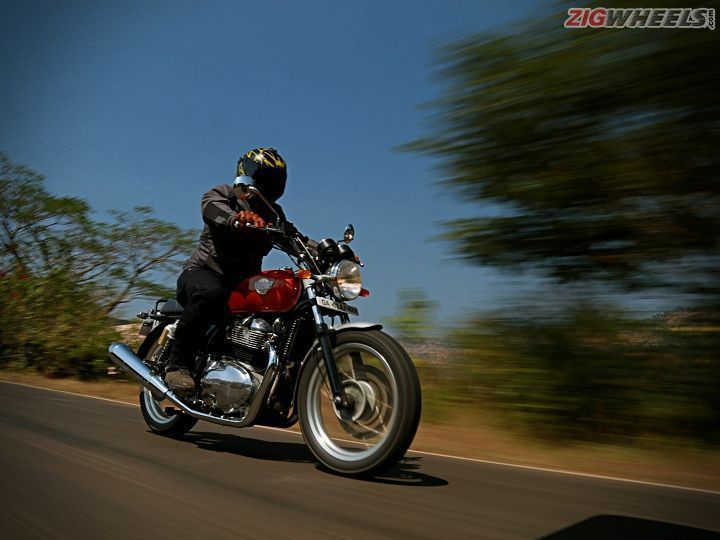with_helmet: (234, 144, 288, 203)
